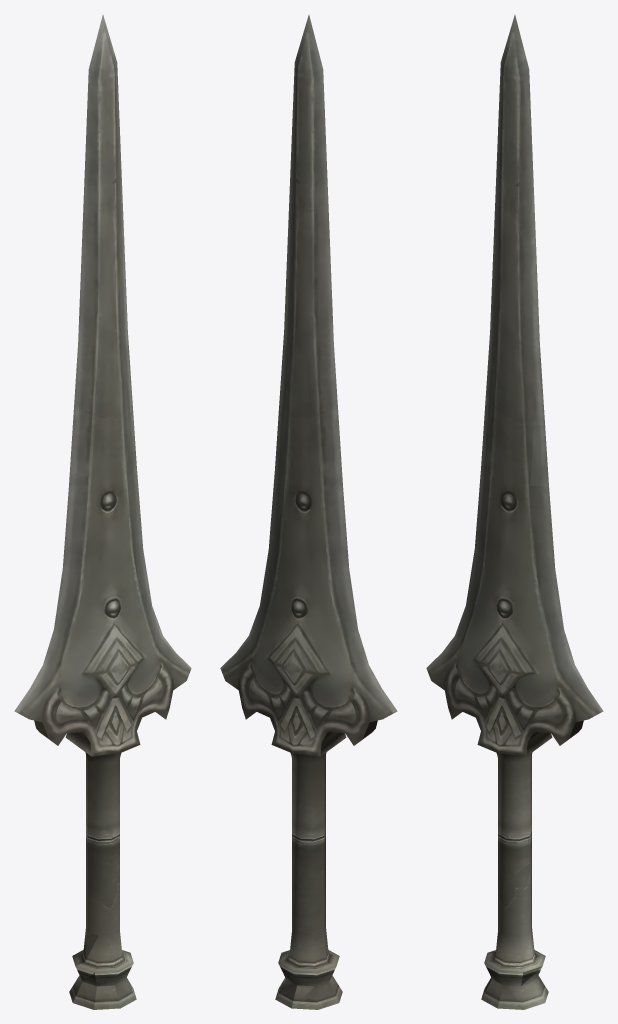
The model's file is Weapon_32.fbx.
3 views of the same model, side by side, from view 1: azimuth 30°, elevation 25°; view 2: azimuth 150°, elevation 25°; view 3: azimuth 330°, elevation 25° (orthographic).
Visible parts, largest first — view 1: Weapon_32; view 2: Weapon_32; view 3: Weapon_32.
Part boxes in pixels (<box>): Weapon_32: <box>14,15,191,1009</box>; Weapon_32: <box>220,15,397,1009</box>; Weapon_32: <box>426,15,603,1009</box>.
Size of the model in its own units: 19.68 by 7.2 by 104.
